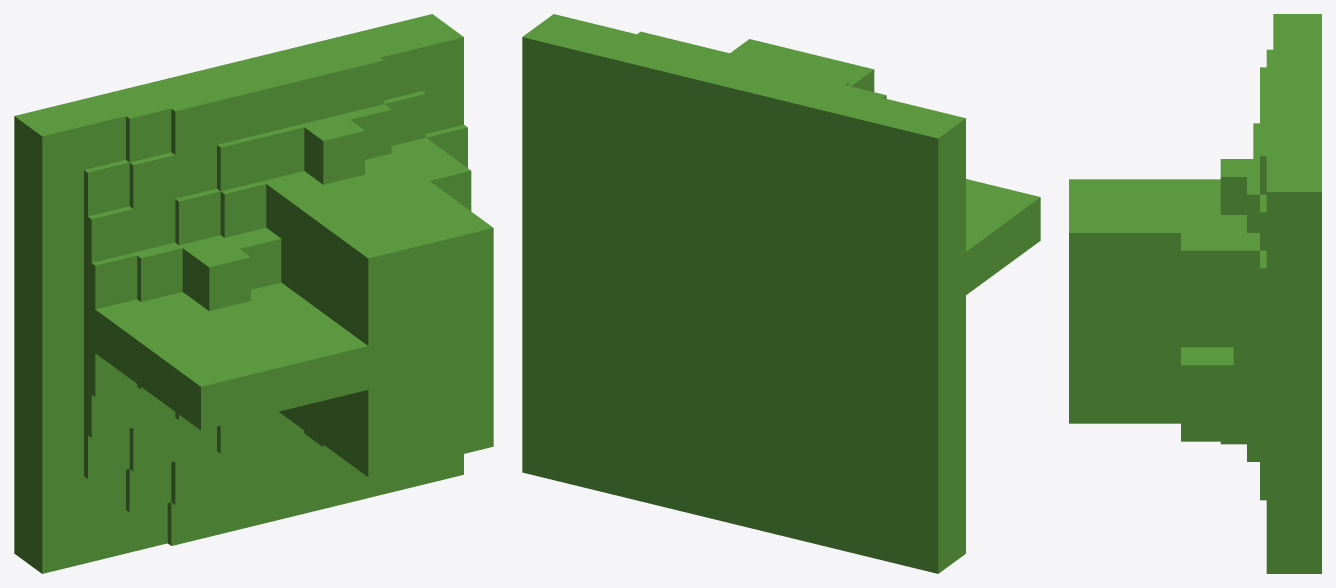
The model's file is MBrot.obj.
3 views of the same model, side by side, from view 1: azimuth 30°, elevation 25°; view 2: azimuth 150°, elevation 25°; view 3: azimuth 270°, elevation 25° (orthographic). The views are drawn at different scales.
Visible parts, largest first — view 1: mesh13, mesh10, mesh113, mesh126, mesh110, mesh142, mesh33, mesh27, mesh111, mesh49, mesh143, mesh52 (+68 smaller); view 2: mesh152, mesh14, mesh104, mesh2, mesh18, mesh40, mesh80, mesh120, mesh136, mesh60, mesh10, mesh33 (+14 smaller); view 3: mesh146, mesh6, mesh164, mesh143, mesh111, mesh127, mesh161, mesh77, mesh148, mesh130, mesh100, mesh116 (+8 smaller).
Part boxes in pixels (box(x1,y1,x2,y2)): mesh13: box(42, 126, 83, 573); mesh10: box(14, 116, 42, 573); mesh113: box(266, 184, 368, 476); mesh126: box(410, 238, 451, 466); mesh110: box(368, 248, 409, 476); mesh142: box(452, 228, 493, 456); mesh33: box(84, 170, 200, 478); mesh27: box(95, 299, 242, 386); mesh111: box(263, 171, 409, 258); mesh49: box(141, 292, 284, 376); mesh143: box(365, 153, 493, 237); mesh52: box(133, 155, 175, 252); mesh152: box(563, 47, 605, 492); mesh14: box(896, 128, 938, 573); mesh104: box(688, 78, 730, 522); mesh2: box(522, 37, 563, 482); mesh18: box(855, 118, 896, 563); mesh40: box(813, 108, 854, 553); mesh80: box(730, 88, 771, 533); mesh120: box(647, 67, 688, 512); mesh136: box(605, 57, 646, 502); mesh60: box(772, 98, 813, 543); mesh10: box(938, 118, 965, 573); mesh33: box(966, 197, 1040, 294); mesh146: box(1069, 156, 1266, 500); mesh6: box(1260, 192, 1321, 573); mesh164: box(1181, 212, 1266, 479); mesh143: box(1069, 215, 1246, 232); mesh111: box(1069, 179, 1220, 197); mesh127: box(1069, 197, 1220, 214); mesh161: box(1181, 233, 1259, 250); mesh77: box(1260, 67, 1321, 85); mesh148: box(1260, 138, 1321, 156); mesh130: box(1220, 177, 1246, 444); mesh100: box(1260, 85, 1321, 102); mesh116: box(1260, 103, 1321, 120).
Size of the model in its own units: 0.01 by 0.01 by 0.006.
